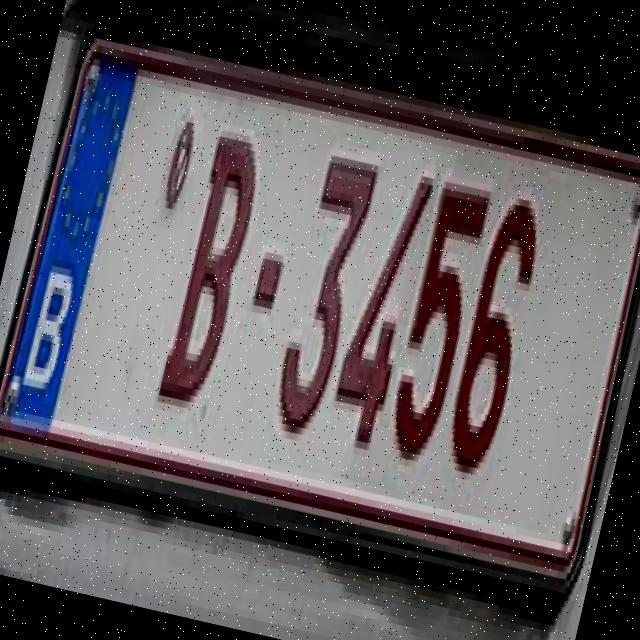Belgique: (4, 50, 140, 442)
EU: (0, 34, 640, 583)
